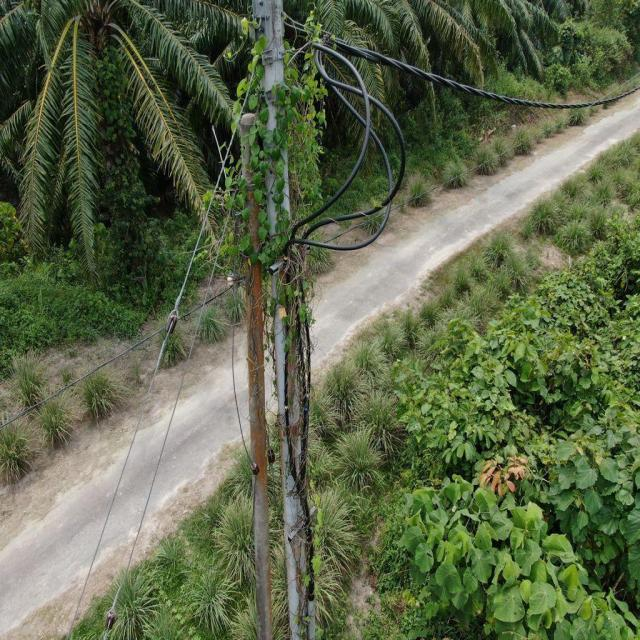critical vegetation: (218, 8, 338, 568)
